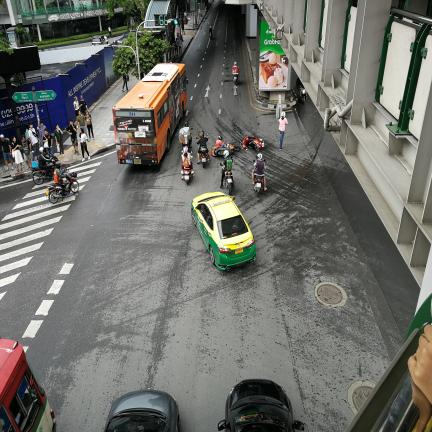bus: (113, 63, 187, 165)
car: (92, 36, 103, 46)
human: (252, 153, 267, 191), (0, 134, 14, 171), (65, 119, 79, 154), (181, 146, 195, 179), (220, 150, 232, 188), (11, 137, 24, 172), (20, 135, 32, 169), (278, 111, 288, 150), (28, 124, 39, 159), (197, 131, 208, 164), (38, 146, 53, 170), (54, 162, 67, 189), (80, 128, 90, 161), (54, 124, 64, 157), (43, 129, 53, 157), (85, 110, 94, 141), (77, 110, 86, 133), (79, 95, 88, 113), (73, 96, 80, 118), (37, 120, 46, 137), (232, 61, 239, 77), (122, 73, 128, 91), (178, 37, 183, 54), (174, 36, 178, 55), (181, 22, 185, 35), (108, 26, 112, 38), (207, 152, 211, 161), (265, 189, 265, 190), (80, 135, 80, 137)
motorbike: (46, 172, 79, 204), (31, 156, 58, 185), (211, 136, 241, 157), (223, 155, 234, 195), (196, 137, 209, 168), (239, 136, 264, 151), (253, 173, 265, 197), (223, 170, 234, 195), (198, 145, 209, 168), (253, 174, 264, 197), (181, 165, 193, 185), (300, 86, 307, 104), (233, 73, 238, 85), (60, 165, 68, 172), (209, 30, 213, 39), (205, 134, 208, 137), (220, 163, 223, 166), (253, 160, 255, 162), (263, 160, 265, 162), (239, 143, 241, 144), (220, 164, 222, 165)
taxi: (191, 192, 256, 270)
